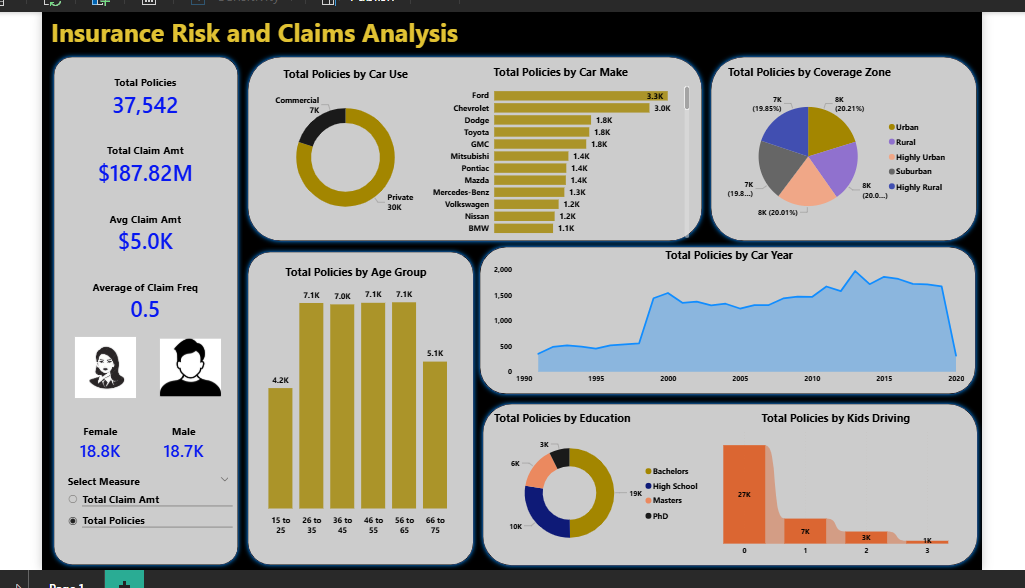

Layout of this report page (visuals, bound fields, positions):
{"tool":"powerbi","page":{"name":"Page 1","canvas":[1600,950],"ordinal":0},"visuals":[{"type":"textbox","box":[10.5,0,753.8,102.9],"z":0},{"type":"shape","box":[11.4,68.7,330,881.3],"z":1000},{"type":"cardVisual","fields":{"Data":["insurance_data_car.Total Policies","insurance_data_car.Total Claim Amt","insurance_data_car.Avg Claim Amt","Avg(insurance_data_car.Claim Freq)"]},"box":[40.1,87.8,270.9,459.7],"z":2000},{"type":"cardVisual","fields":{"Data":["insurance_data_car.Female Count","insurance_data_car.Male Count"]},"box":[30.5,677.2,280.4,110.6],"z":3000},{"type":"image","box":[51.5,547.5,114.5,114.5],"z":4000},{"type":"image","box":[196.5,547.5,114.5,114.5],"z":5000},{"type":"slicer","fields":{"Values":["Select Measure.Select Measure"]},"box":[30.5,782.1,299.5,116.4],"z":6000},{"type":"shape","box":[341.5,68.7,789.8,330],"z":7000},{"type":"donutChart","fields":{"Y":["insurance_data_car.Total Policies"],"Category":["insurance_data_car.Car Use"]},"box":[373.9,91.6,284.2,286.1],"z":8000},{"type":"clusteredBarChart","fields":{"Y":["insurance_data_car.Total Policies"],"Category":["insurance_data_car.Car Make"]},"box":[658.1,87.8,448.3,301.4],"z":9000},{"type":"shape","box":[1131.2,68.7,469.3,330],"z":10000},{"type":"pieChart","fields":{"Y":["insurance_data_car.Total Policies"],"Category":["insurance_data_car.Coverage Zone"]},"box":[1163.7,87.8,389.2,290],"z":11000},{"type":"shape","box":[341.5,400.6,400.6,549.4],"z":12000},{"type":"clusteredColumnChart","fields":{"Y":["insurance_data_car.Total Policies"],"Category":["insurance_data_car.Age Group"]},"box":[352.9,429.2,364.4,469.3],"z":13000},{"type":"shape","box":[736.3,391.1,860.3,267.1],"z":14000},{"type":"areaChart","fields":{"Y":["insurance_data_car.Total Policies"],"Category":["insurance_data_car.Car Year"]},"box":[765,400.6,810.7,242.3],"z":15000},{"type":"shape","box":[742.1,658.1,858.4,291.9],"z":16000},{"type":"donutChart","fields":{"Y":["insurance_data_car.Total Policies"],"Category":["insurance_data_car.Education"]},"box":[765,677.2,366.3,257.5],"z":17000},{"type":"ribbonChart","fields":{"Y":["insurance_data_car.Total Policies"],"Category":["insurance_data_car.Kids Driving"]},"box":[1148.4,677.2,404.4,257.5],"z":18000}]}

Visuals, with their boxes in screenshot pixels (x1, y1, x2, y2):
textbox: (x1=41, y1=8, x2=484, y2=69)
shape: (x1=41, y1=48, x2=235, y2=567)
cardVisual - insurance_data_car.Total Policies x insurance_data_car.Total Claim Amt: (x1=58, y1=60, x2=218, y2=330)
cardVisual - insurance_data_car.Female Count x insurance_data_car.Male Count: (x1=53, y1=406, x2=218, y2=471)
image: (x1=65, y1=330, x2=132, y2=397)
image: (x1=150, y1=330, x2=218, y2=397)
slicer - Select Measure.Select Measure: (x1=53, y1=468, x2=229, y2=536)
shape: (x1=235, y1=48, x2=700, y2=242)
donutChart - insurance_data_car.Total Policies x insurance_data_car.Car Use: (x1=255, y1=62, x2=422, y2=230)
clusteredBarChart - insurance_data_car.Total Policies x insurance_data_car.Car Make: (x1=422, y1=60, x2=685, y2=237)
shape: (x1=700, y1=48, x2=976, y2=242)
pieChart - insurance_data_car.Total Policies x insurance_data_car.Coverage Zone: (x1=719, y1=60, x2=948, y2=230)
shape: (x1=235, y1=244, x2=471, y2=567)
clusteredColumnChart - insurance_data_car.Total Policies x insurance_data_car.Age Group: (x1=242, y1=260, x2=456, y2=536)
shape: (x1=468, y1=238, x2=973, y2=395)
areaChart - insurance_data_car.Total Policies x insurance_data_car.Car Year: (x1=485, y1=244, x2=961, y2=386)
shape: (x1=471, y1=395, x2=976, y2=567)
donutChart - insurance_data_car.Total Policies x insurance_data_car.Education: (x1=485, y1=406, x2=700, y2=558)
ribbonChart - insurance_data_car.Total Policies x insurance_data_car.Kids Driving: (x1=710, y1=406, x2=948, y2=558)
